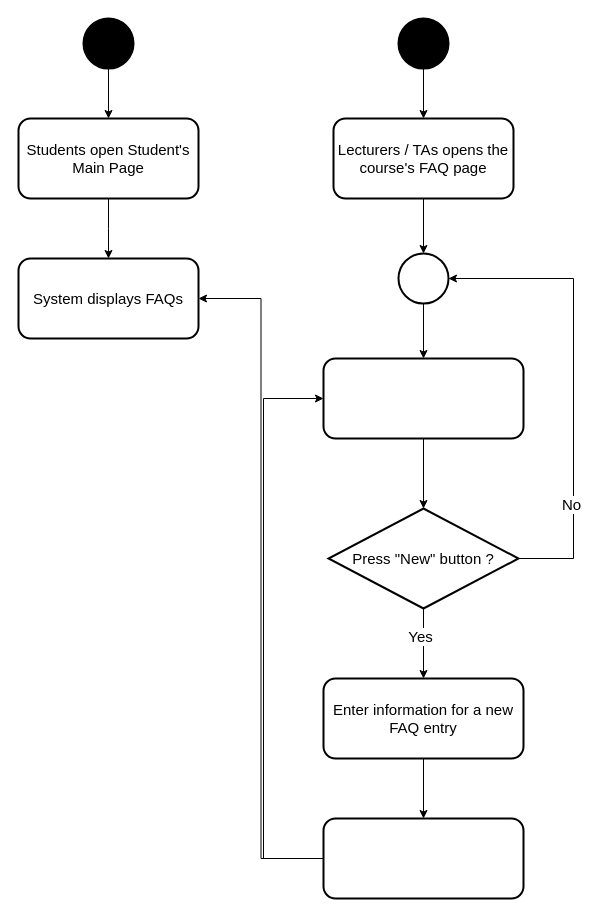
This 599x916 diagram has some shape labels left out. The shapes that lost their labels are listed below. From the top down, each one's centre as x and y in pixels, then its label:
At [423,398]: "System displays the FAQs".
At [423,858]: "Save FAQ entry into the system".
